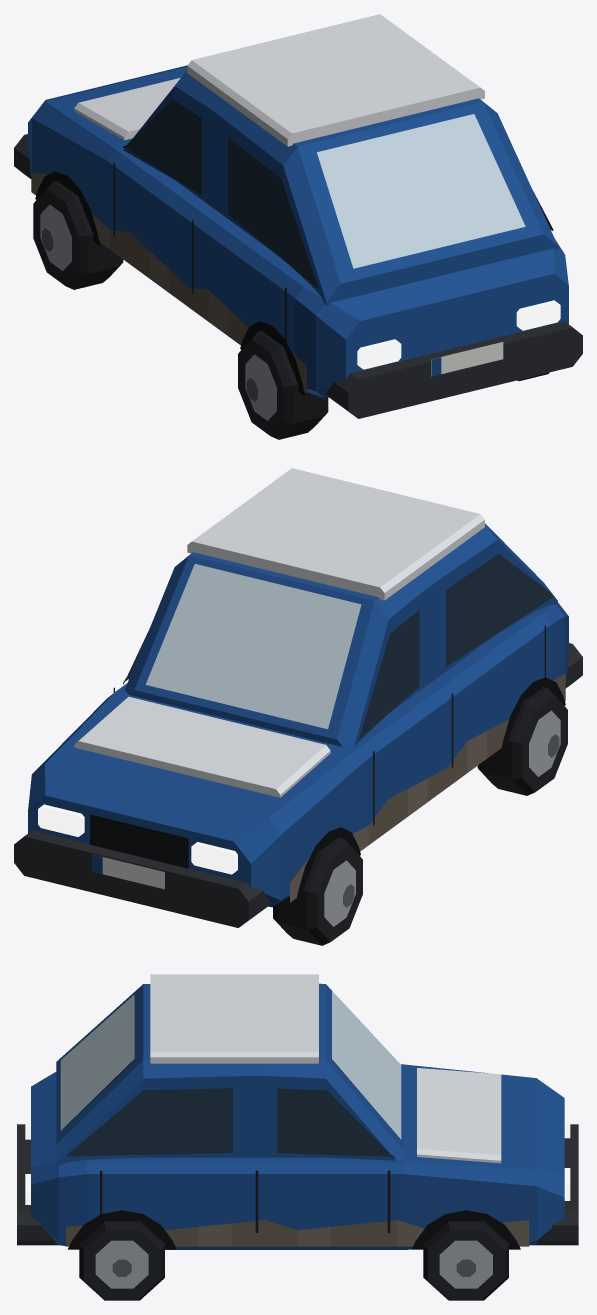
The model's file is hatch_lo.glb.
3 renders of one model, top to bottom at view 1: azimuth 30°, elevation 25°; view 2: azimuth 150°, elevation 25°; view 3: azimuth 270°, elevation 25°, orthographic. The views are drawn at different scales.
Parts seen in each view (by area): view 1: body.002, wheel_RL.002, wheel_FL.002; view 2: body.002, wheel_FL.002, wheel_RL.002; view 3: body.002, wheel_FR.002, wheel_RR.002.
Boxes of the visible parts, x1=… form: body.002: x1=14, y1=14, x2=582, y2=418; wheel_RL.002: x1=238, y1=331, x2=328, y2=439; wheel_FL.002: x1=33, y1=181, x2=123, y2=289; body.002: x1=14, y1=468, x2=582, y2=927; wheel_FL.002: x1=273, y1=837, x2=362, y2=945; wheel_RL.002: x1=477, y1=687, x2=567, y2=795; body.002: x1=17, y1=974, x2=578, y2=1249; wheel_FR.002: x1=423, y1=1221, x2=508, y2=1300; wheel_RR.002: x1=79, y1=1221, x2=164, y2=1300.
Bounding box in the file's own units: 2.08 × 1.82 × 4.05.
